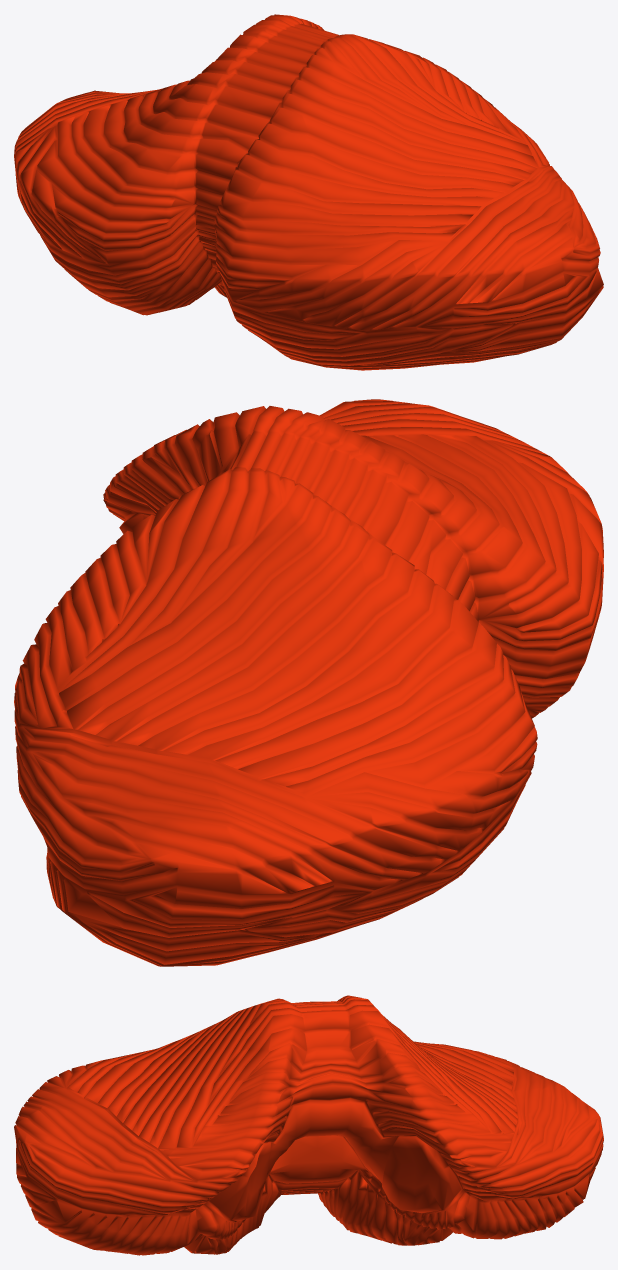
The model's file is cerebellum.glb.
3 renders of one model, top to bottom at view 1: azimuth 30°, elevation 25°; view 2: azimuth 150°, elevation 25°; view 3: azimuth 270°, elevation 25°, orthographic. The views are drawn at different scales.
Parts seen in each view (by area): view 1: Brain_Part_02; view 2: Brain_Part_02; view 3: Brain_Part_02.
Part boxes in pixels (x1,y1,x2,y2): Brain_Part_02: (14,14,603,370); Brain_Part_02: (14,399,603,966); Brain_Part_02: (14,995,603,1255).
Size of the model in its own units: 1.95 by 1.39 by 3.
